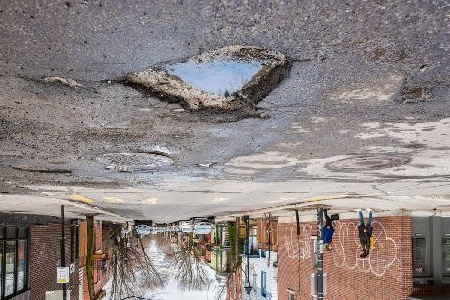pothole: (120, 42, 295, 126), (393, 79, 437, 106), (6, 161, 73, 177), (38, 74, 83, 92), (192, 159, 217, 170)
